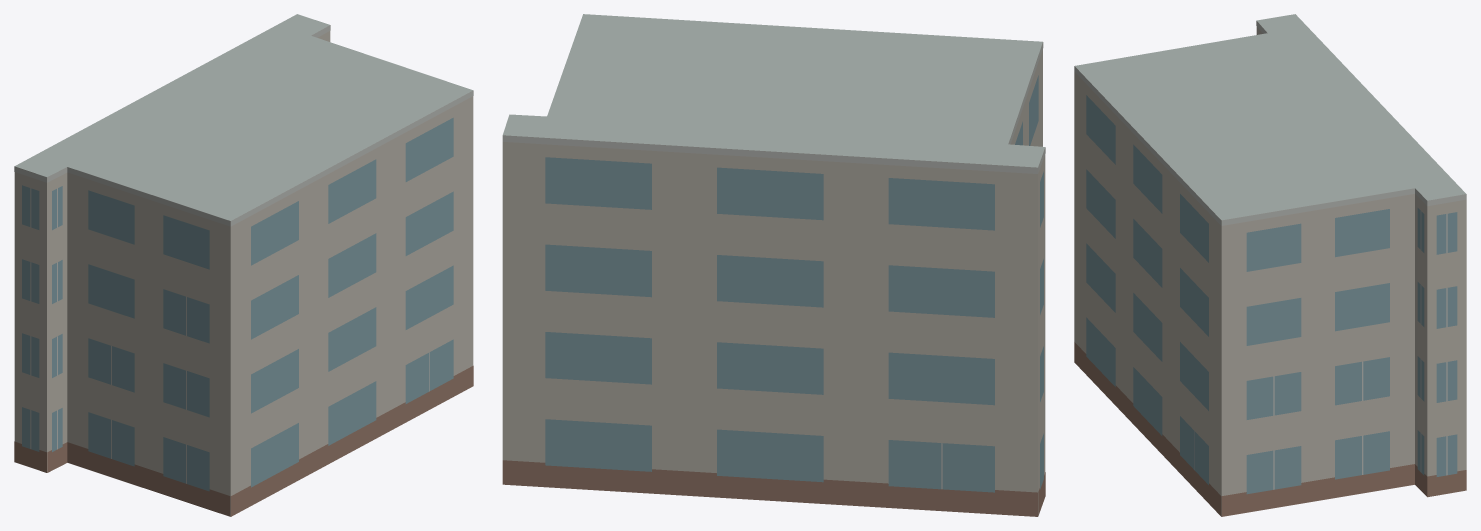
Rendered from survey-upis-32549222.glb.
The picture shows the model from 3 angles, left to right: view 1: azimuth 30°, elevation 25°; view 2: azimuth 150°, elevation 25°; view 3: azimuth 270°, elevation 25°; orthographic projection. The views are drawn at different scales.
Visible parts, largest first — view 1: survey-upis-32549222.tmp; view 2: survey-upis-32549222.tmp; view 3: survey-upis-32549222.tmp.
Part boxes in pixels (bbox=[...]): survey-upis-32549222.tmp: bbox=[14, 14, 473, 516]; survey-upis-32549222.tmp: bbox=[502, 14, 1045, 516]; survey-upis-32549222.tmp: bbox=[1074, 14, 1466, 516].
Size of the model in its own units: 19.42 by 13 by 15.59.
